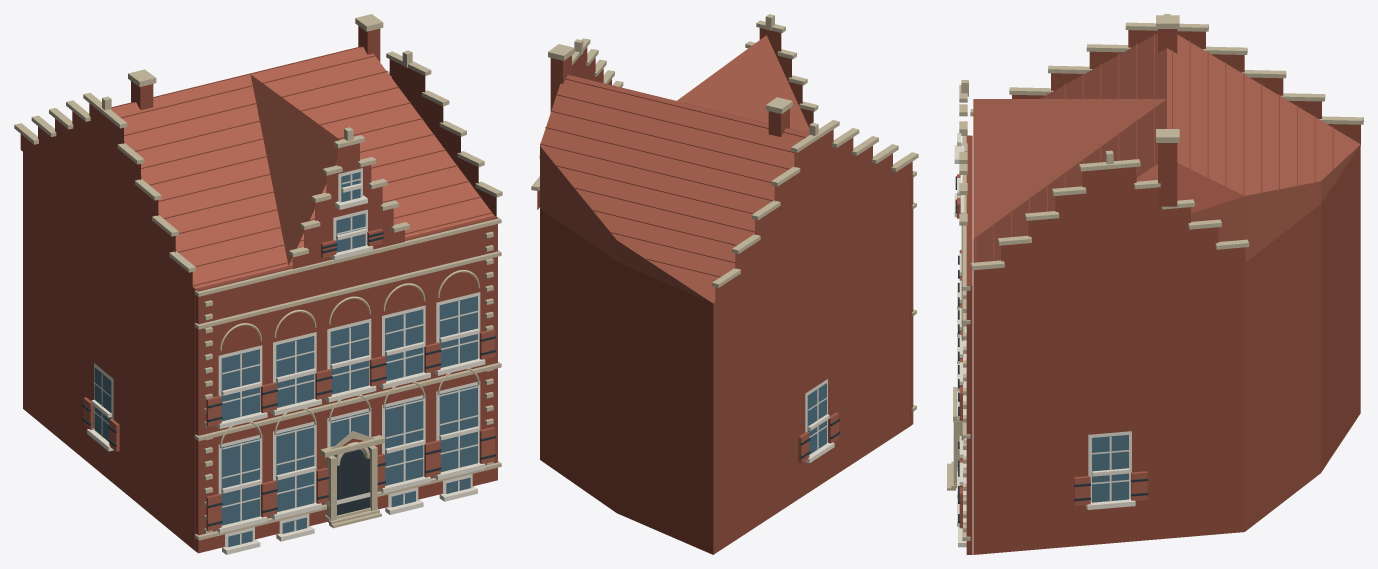
The model's file is huis-aan-drie-grachten.glb.
3 renders of one model, left to right at view 1: azimuth 30°, elevation 25°; view 2: azimuth 150°, elevation 25°; view 3: azimuth 270°, elevation 25°, orthographic. The views are drawn at different scales.
Visible parts, largest first — view 1: huis-aan-drie-grachten; view 2: huis-aan-drie-grachten; view 3: huis-aan-drie-grachten.
Part boxes in pixels (x1,y1,x2,y2): huis-aan-drie-grachten: (14,14,502,554); huis-aan-drie-grachten: (531,14,918,554); huis-aan-drie-grachten: (947,14,1363,554).
Bounding box in the file's own units: 13.56 × 16.5 × 15.17.
